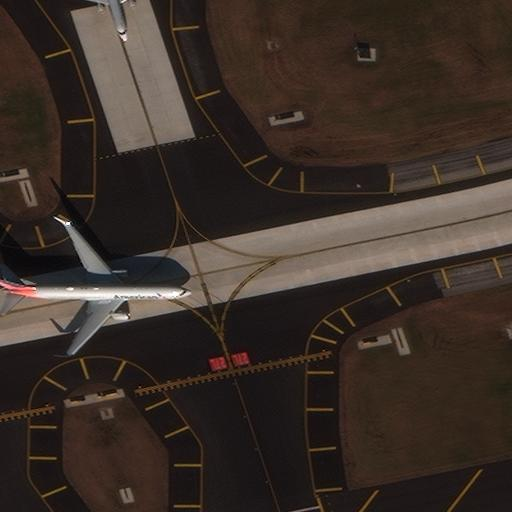Large Civil Transport: (0, 222, 192, 355)
Medium Civil Transport: (69, 0, 146, 41)
